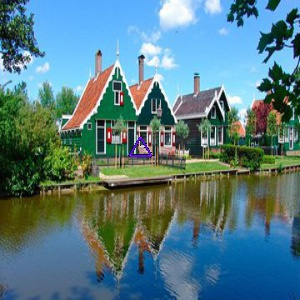triangle: (126, 134, 155, 159)
